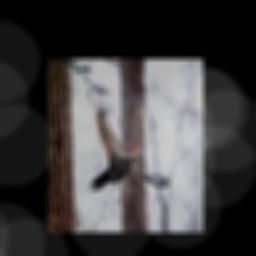Woodpecker: (89, 94, 171, 190)
